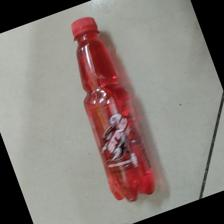Sting: (70, 15, 156, 203)
